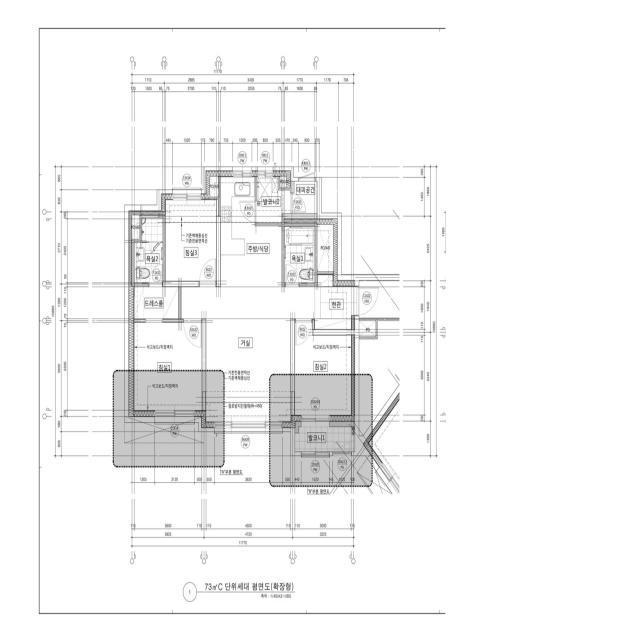background: (0, 0, 640, 640)
space_balconi: (257, 171, 290, 222), (295, 427, 355, 452)
space_bedroom: (129, 322, 202, 417), (295, 322, 355, 421), (161, 194, 216, 281)
space_dressroom: (129, 287, 179, 319)
space_front: (315, 275, 355, 330)
space_kitchen: (221, 171, 282, 287)
space_living_room: (181, 287, 315, 428)
space_other: (317, 219, 337, 272), (294, 181, 317, 214), (206, 171, 218, 197), (129, 211, 139, 239), (280, 171, 291, 187)
space_toilet: (134, 219, 163, 283), (285, 227, 315, 283)
